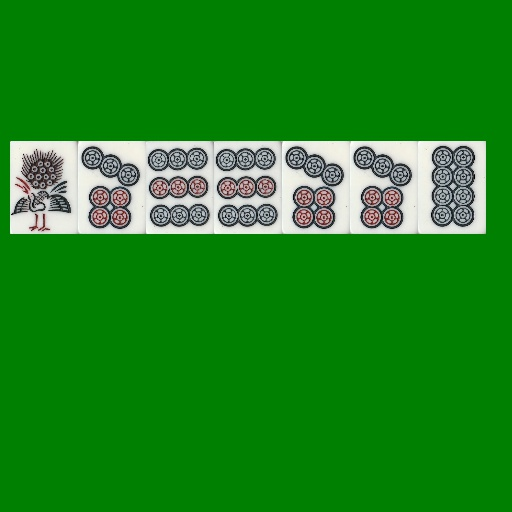1s: (10, 141, 78, 234)
7p: (78, 141, 146, 234), (282, 141, 350, 234), (350, 141, 418, 234)
8p: (418, 141, 486, 234)
9p: (146, 141, 214, 234), (214, 141, 282, 234)
